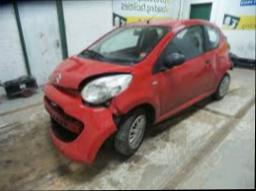Bonnet: (41, 84, 119, 162)
Fender: (214, 39, 232, 93)
